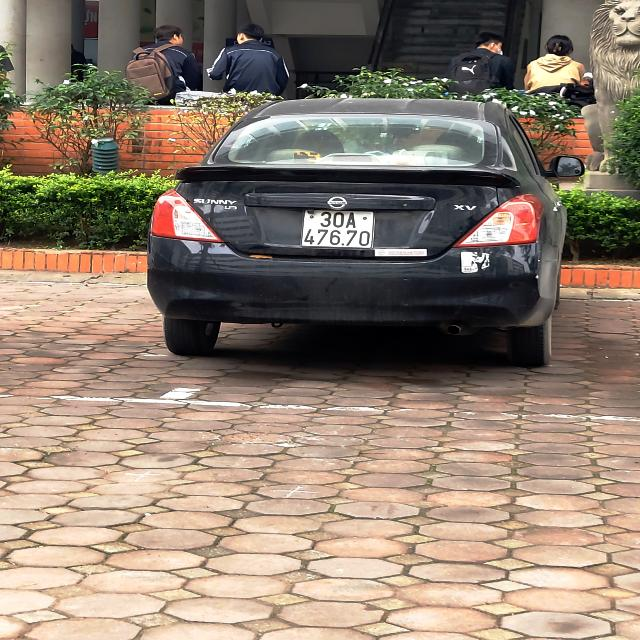license_plate: (301, 210, 376, 250)
